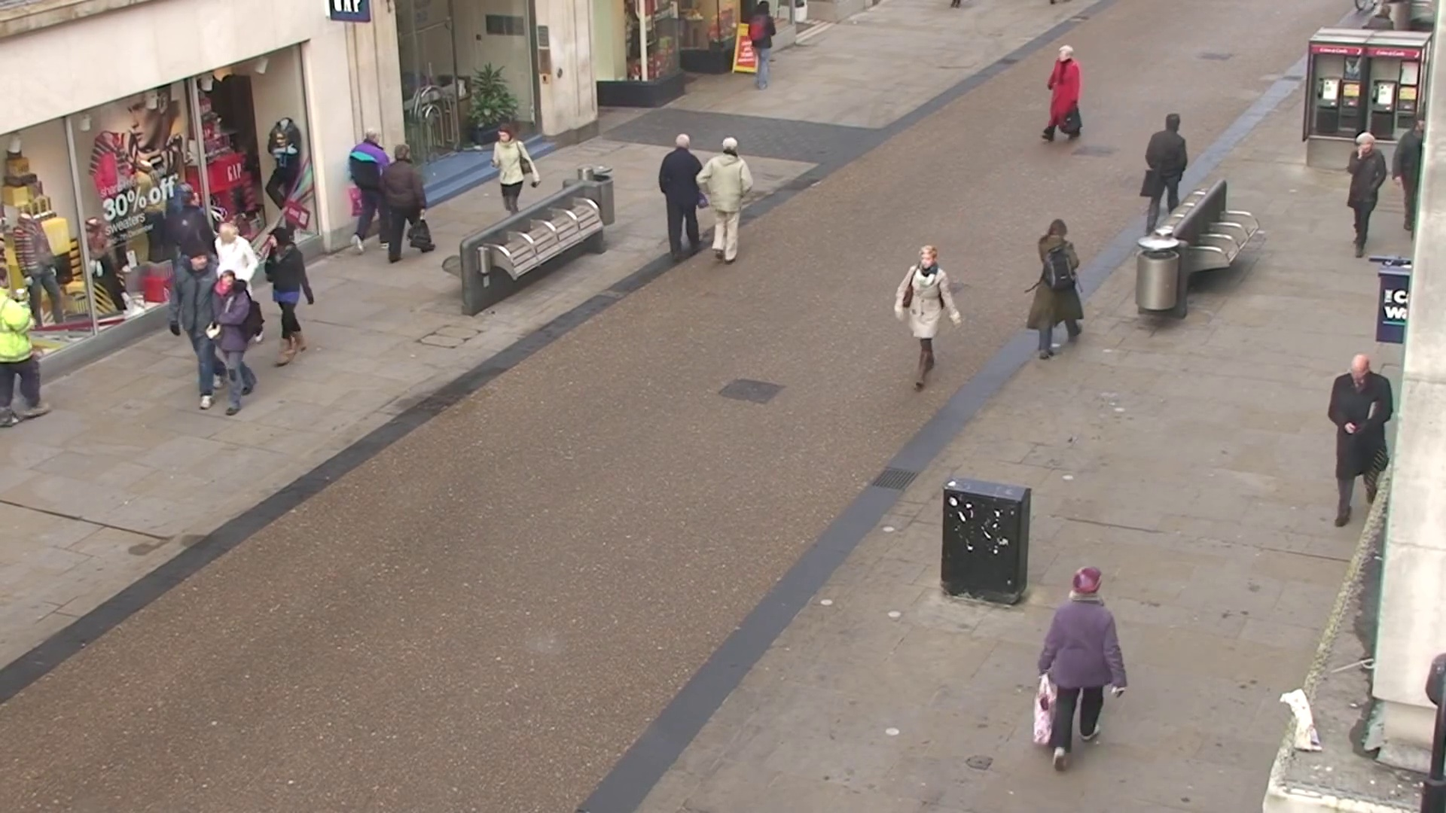person: (1035, 566, 1129, 771), (1327, 352, 1395, 528), (895, 244, 962, 389), (209, 266, 264, 410), (1031, 218, 1084, 357), (260, 224, 313, 361), (697, 136, 752, 265), (378, 145, 432, 263), (0, 279, 43, 422), (657, 131, 705, 257), (1142, 111, 1189, 233), (1345, 129, 1389, 257), (346, 128, 392, 247), (492, 123, 537, 217), (1044, 44, 1084, 144)
